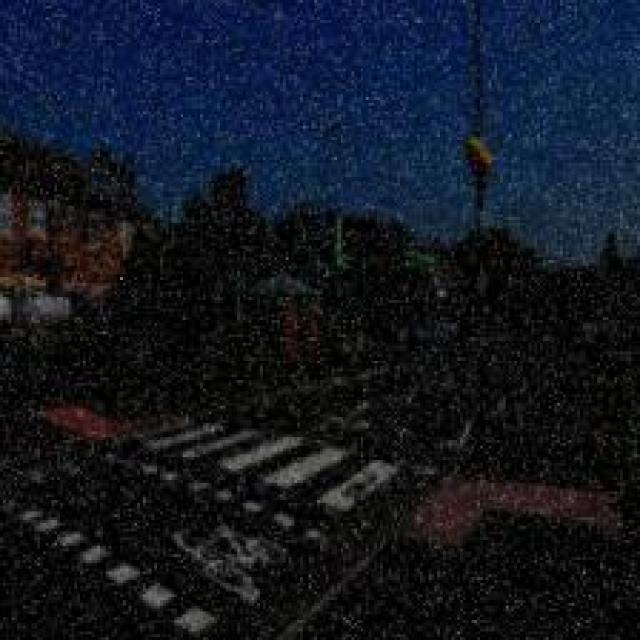walk-crossing: (114, 418, 409, 538)
